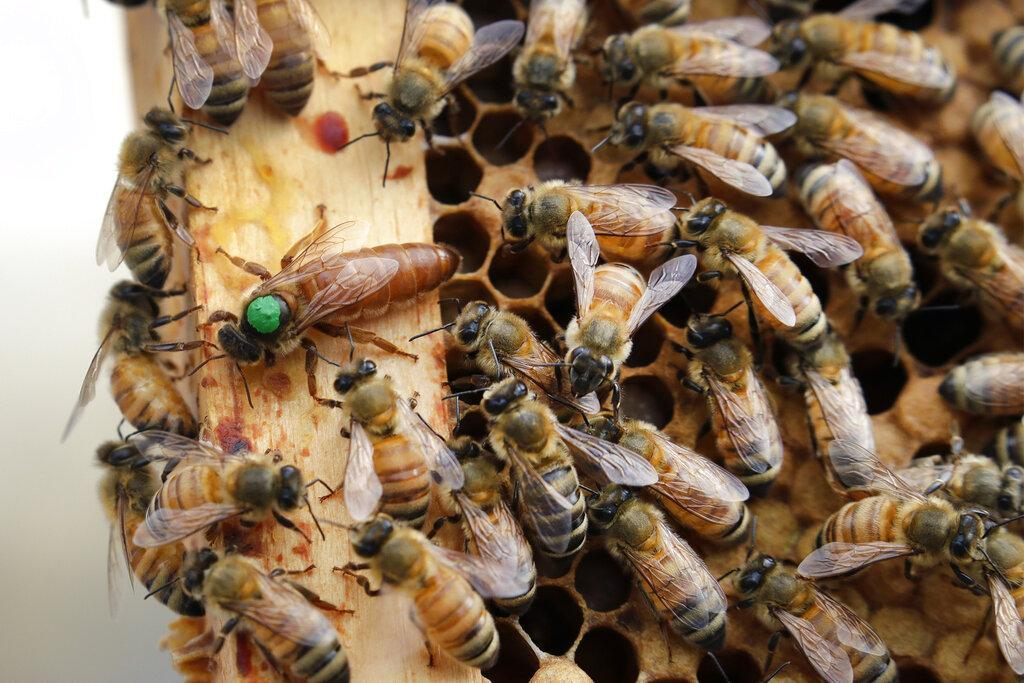bee: (185, 548, 350, 683), (596, 485, 727, 646), (360, 518, 500, 668), (739, 556, 900, 683), (693, 201, 827, 344), (596, 418, 752, 538), (435, 438, 536, 615), (801, 163, 918, 312), (488, 384, 587, 556), (103, 442, 202, 611), (781, 94, 943, 194), (782, 13, 953, 102), (337, 360, 428, 527), (618, 104, 785, 194), (103, 282, 198, 437), (149, 454, 305, 541), (462, 306, 583, 418), (504, 188, 682, 262), (818, 494, 984, 571), (376, 9, 476, 135), (114, 112, 184, 288), (610, 29, 771, 105), (926, 210, 1024, 331), (796, 340, 874, 483), (165, 0, 250, 127), (567, 269, 646, 392), (245, 0, 316, 118), (516, 0, 579, 111), (904, 461, 1024, 514), (941, 352, 1024, 418), (974, 102, 1024, 187), (992, 29, 1024, 95), (981, 420, 1024, 465)
queen: (219, 245, 459, 362)
